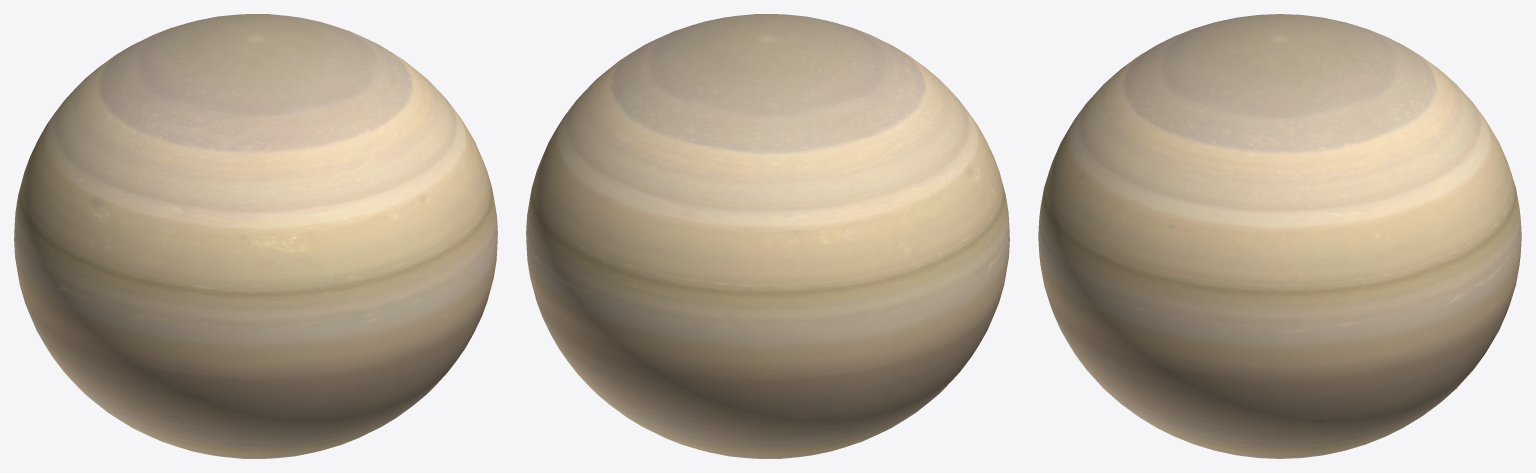
The model's file is saturn.glb.
3 views of the same model, side by side, from view 1: azimuth 30°, elevation 25°; view 2: azimuth 150°, elevation 25°; view 3: azimuth 270°, elevation 25° (orthographic).
Parts seen in each view (by area): view 1: Saturn.001; view 2: Saturn.001; view 3: Saturn.001.
Boxes of the visible parts, x1,y1,x2,y2 form: Saturn.001: [14, 14, 497, 458]; Saturn.001: [526, 14, 1009, 458]; Saturn.001: [1038, 14, 1521, 458].
Bounding box in the file's own units: 2 × 1.8 × 2.
Materials: 1 (1 with a texture image).
